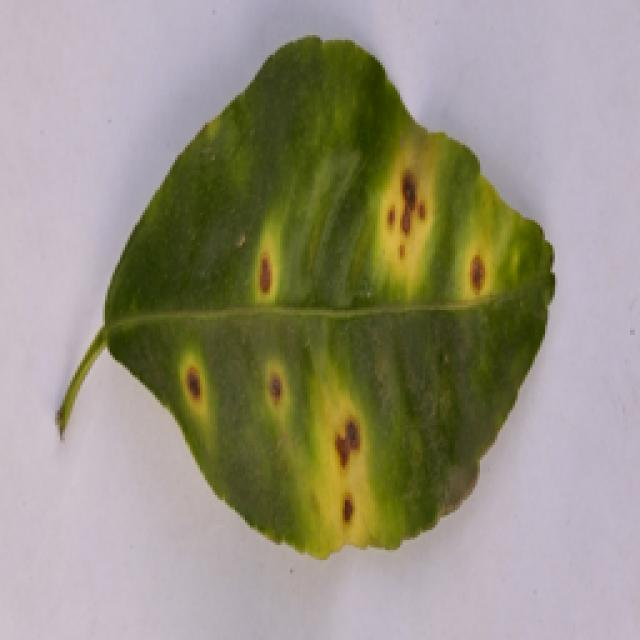canker: (61, 75, 568, 548)
